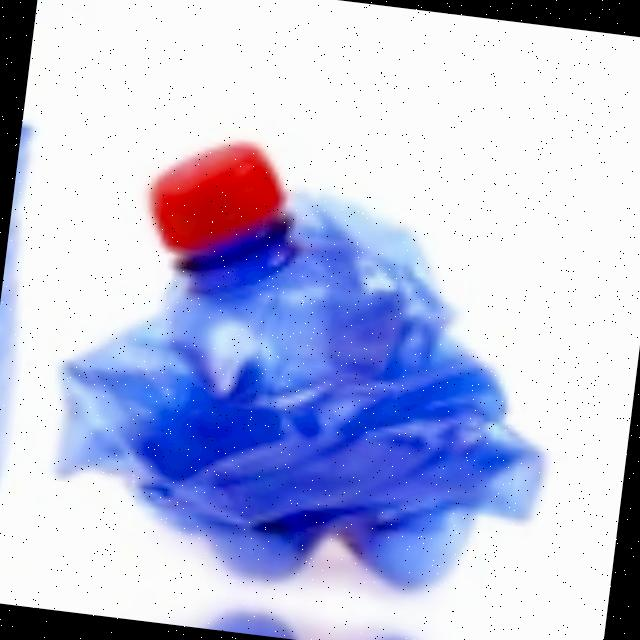Plastic: (12, 28, 616, 632), (7, 565, 550, 640), (83, 0, 623, 49)
